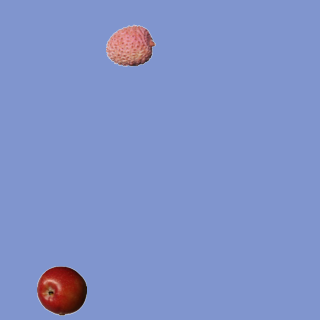Apple Braeburn: (36, 265, 86, 315)
Lychee: (105, 20, 155, 70)
